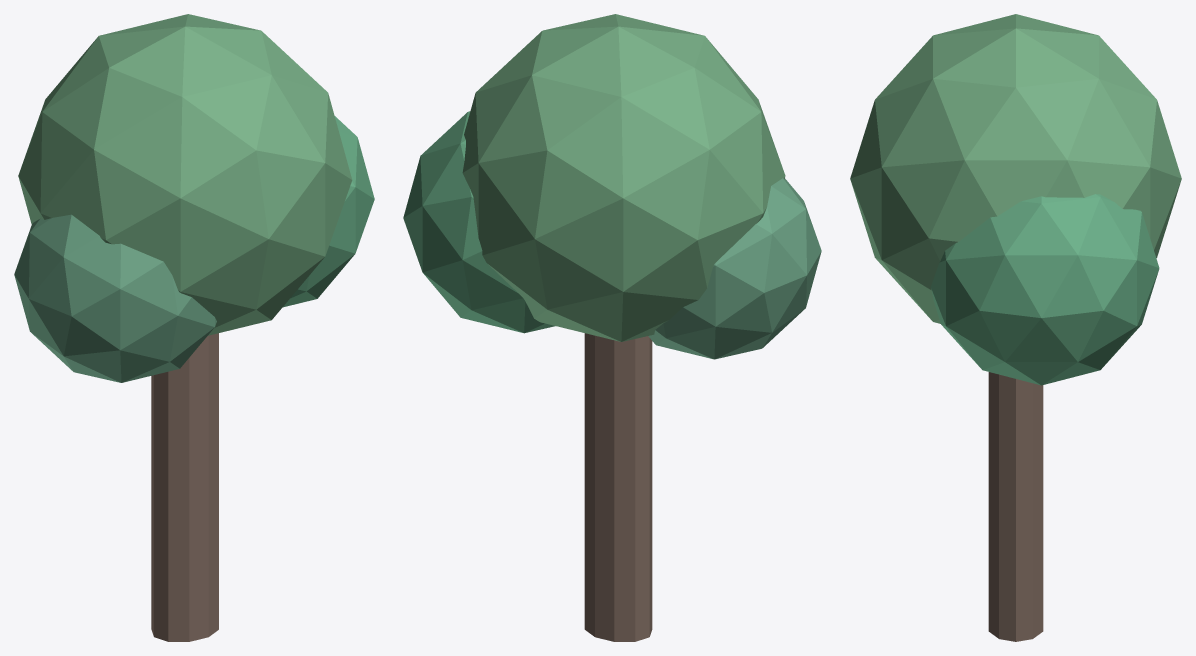
The model's file is tree.glb.
The picture shows the model from 3 angles, left to right: view 1: azimuth 30°, elevation 25°; view 2: azimuth 150°, elevation 25°; view 3: azimuth 270°, elevation 25°; orthographic projection.
Visible parts, largest first — view 1: canopy1, canopy2, trunk, canopy3; view 2: canopy1, trunk, canopy2, canopy3; view 3: canopy1, canopy3, trunk.
Boxes of the visible parts, <box> form: canopy1: <box>18,14,352,335</box>; canopy2: <box>14,214,216,382</box>; trunk: <box>151,333,218,641</box>; canopy3: <box>283,116,374,307</box>; canopy1: <box>462,14,785,341</box>; trunk: <box>584,333,652,641</box>; canopy2: <box>648,178,821,359</box>; canopy3: <box>403,111,555,333</box>; canopy1: <box>850,14,1181,323</box>; canopy3: <box>931,194,1159,385</box>; trunk: <box>988,372,1043,641</box>.
Size of the model in its own units: 1.29 by 2.07 by 1.04.
